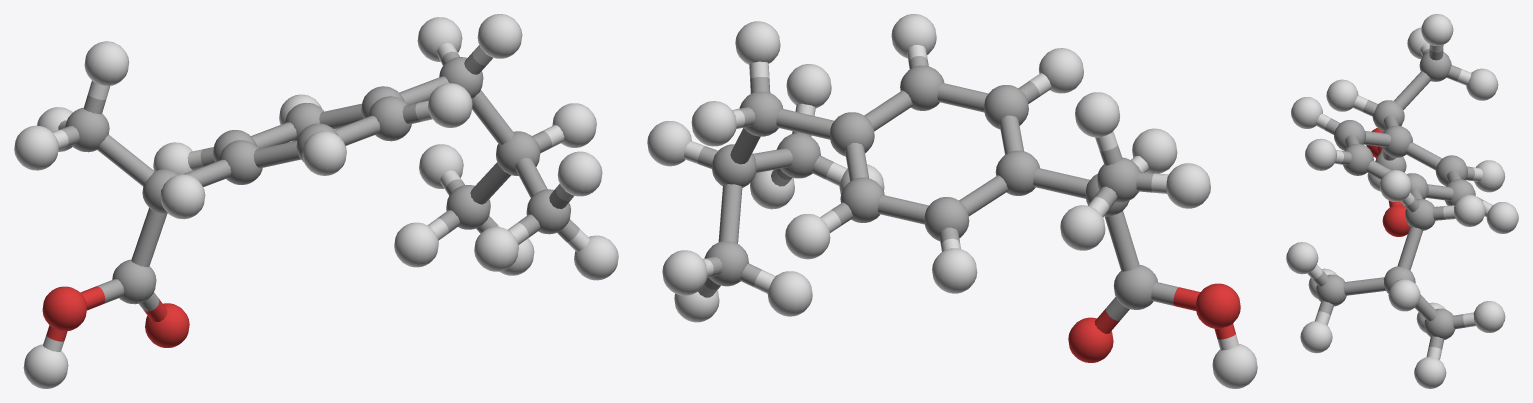
The model's file is ibuprofen-bas.glb.
3 views of the same model, side by side, from view 1: azimuth 30°, elevation 25°; view 2: azimuth 150°, elevation 25°; view 3: azimuth 270°, elevation 25° (orthographic). The views are drawn at different scales.
Parts seen in each view (by area): view 1: ibuprofen-bas; view 2: ibuprofen-bas; view 3: ibuprofen-bas.
Part boxes in pixels (box(x1,y1,x2,y2)): ibuprofen-bas: box(14, 14, 618, 388); ibuprofen-bas: box(647, 14, 1257, 388); ibuprofen-bas: box(1286, 14, 1518, 388).
Size of the model in its own units: 10.44 by 5.56 by 5.05.
